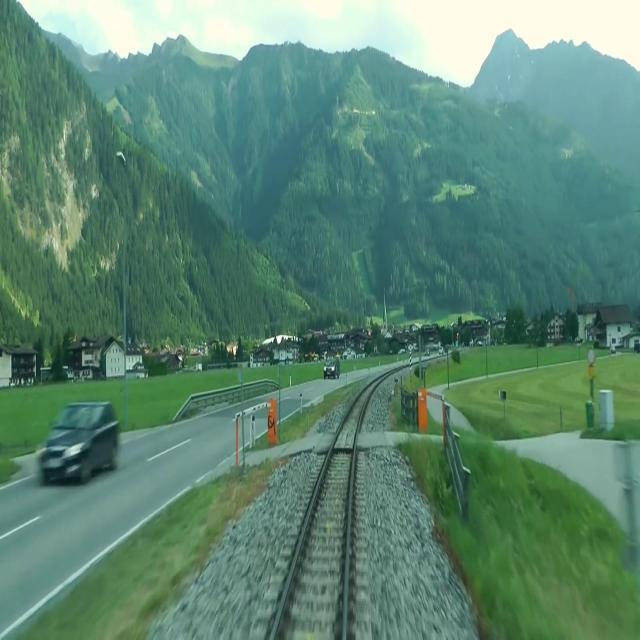rail-track: (274, 388, 369, 639)
